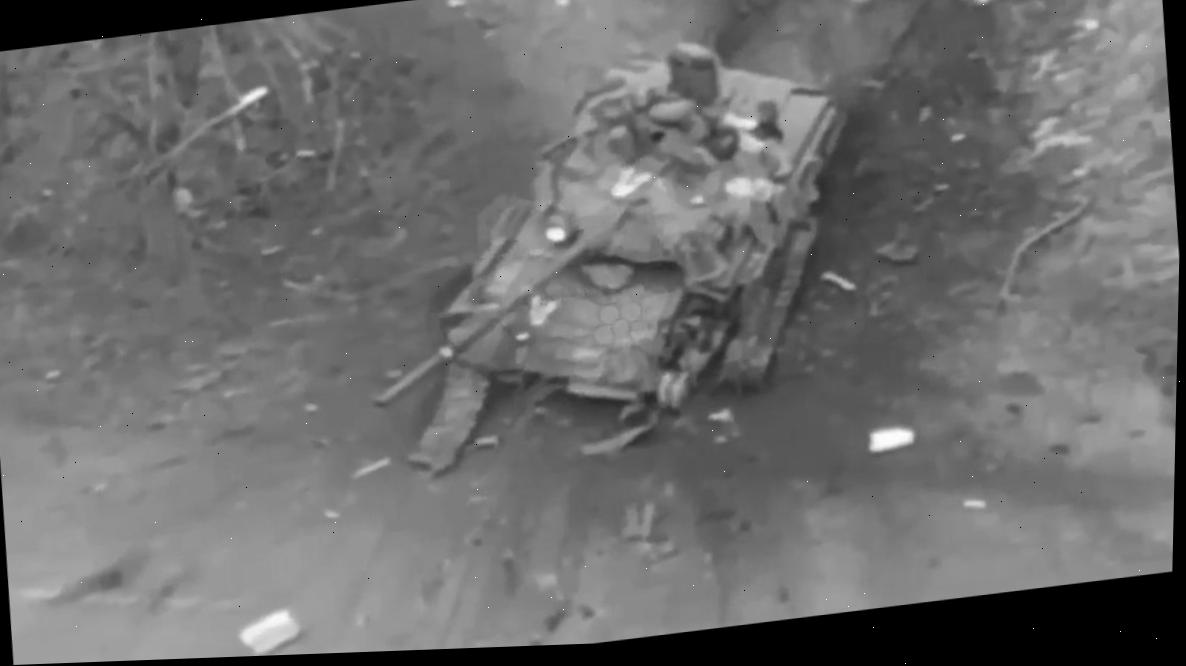tank: (343, 32, 871, 479)
